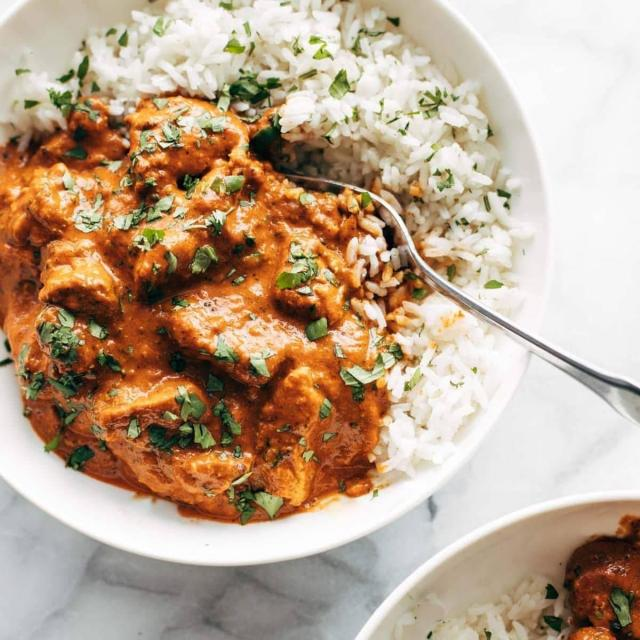chicken: (13, 104, 407, 519), (549, 516, 640, 640)
rice: (412, 113, 542, 414), (34, 15, 492, 87)
